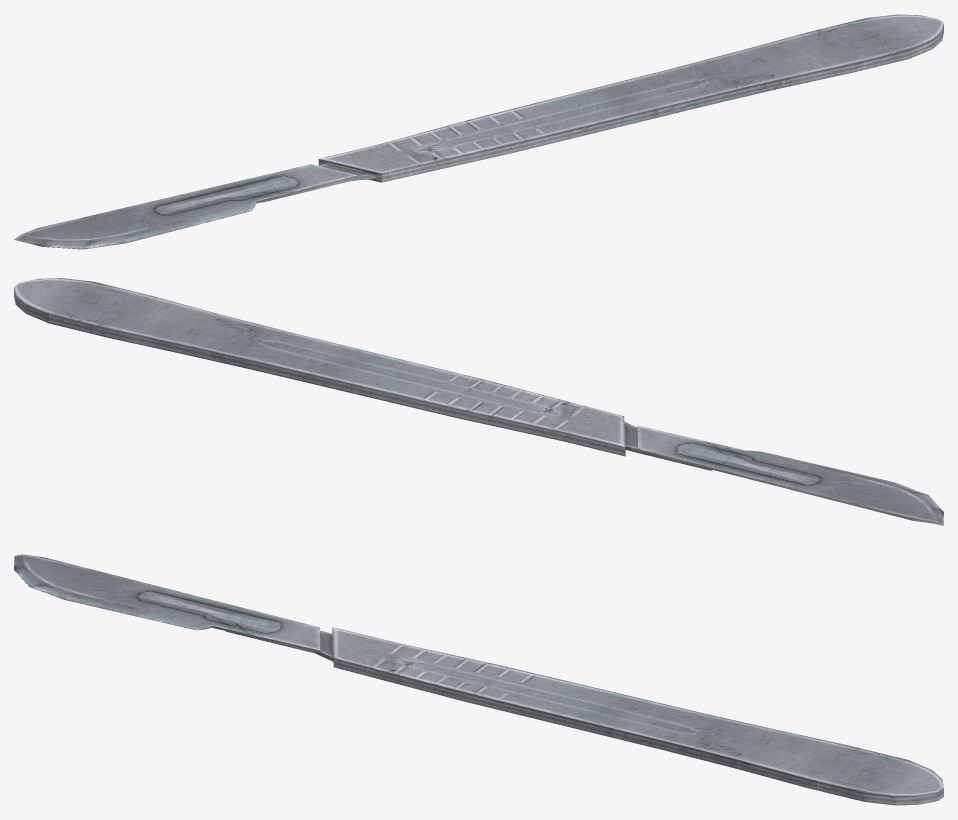
The model's file is Scalpel.fbx.
The picture shows the model from 3 angles, top to bottom: view 1: azimuth 30°, elevation 25°; view 2: azimuth 150°, elevation 25°; view 3: azimuth 330°, elevation 25°; orthographic projection. The views are drawn at different scales.
Visible parts, largest first — view 1: polySurface30; view 2: polySurface30; view 3: polySurface30.
Boxes of the visible parts, left/top/right/bottom form: polySurface30: left=14, top=14, right=943, bottom=249; polySurface30: left=14, top=278, right=943, bottom=525; polySurface30: left=14, top=554, right=943, bottom=805.
Size of the model in its own units: 26.65 by 0.2493 by 2.19.
